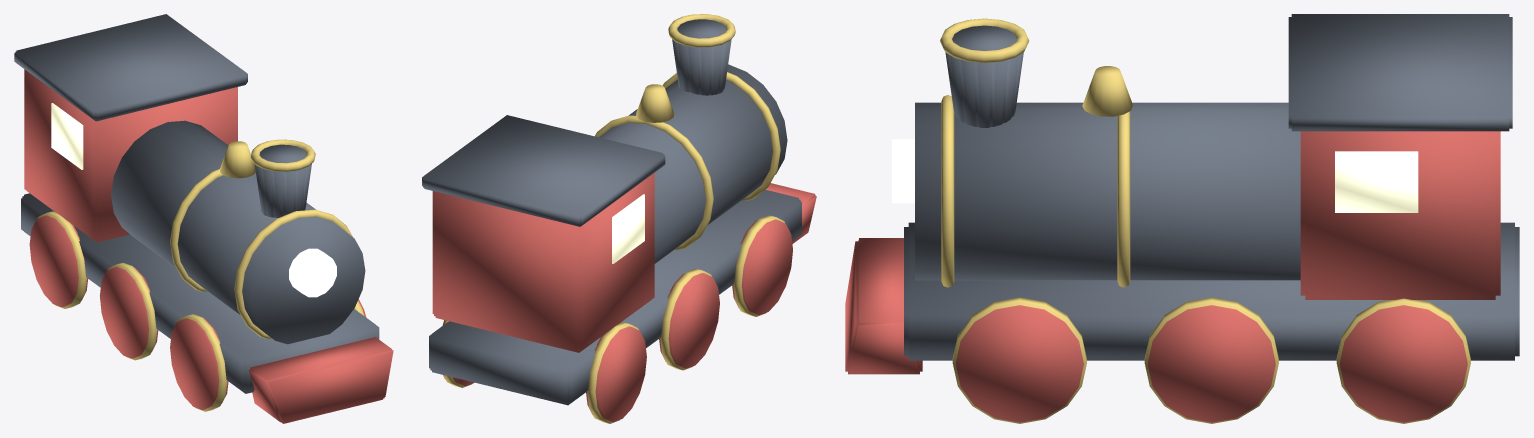
The model's file is steam-loco-detail.glb.
The picture shows the model from 3 angles, left to right: view 1: azimuth 30°, elevation 25°; view 2: azimuth 150°, elevation 25°; view 3: azimuth 270°, elevation 25°; orthographic projection. The views are drawn at different scales.
Visible parts, largest first — view 1: Boiler, Cab, Smokestack, Bell; view 2: Boiler, Cab, Smokestack, Bell; view 3: Boiler, Cab, Smokestack, Bell.
Part boxes in pixels (x1,y1,x2,y2): Boiler: [21, 120, 393, 423]; Cab: [14, 14, 247, 242]; Smokestack: [251, 139, 315, 217]; Bell: [219, 141, 255, 178]; Boiler: [429, 64, 816, 423]; Cab: [422, 115, 665, 352]; Smokestack: [668, 14, 735, 95]; Bell: [636, 84, 674, 122]; Boiler: [845, 95, 1519, 423]; Cab: [1288, 14, 1512, 299]; Smokestack: [940, 18, 1029, 127]; Bell: [1082, 66, 1133, 116].
Size of the model in its own units: 1.52 by 2.34 by 4.22.
